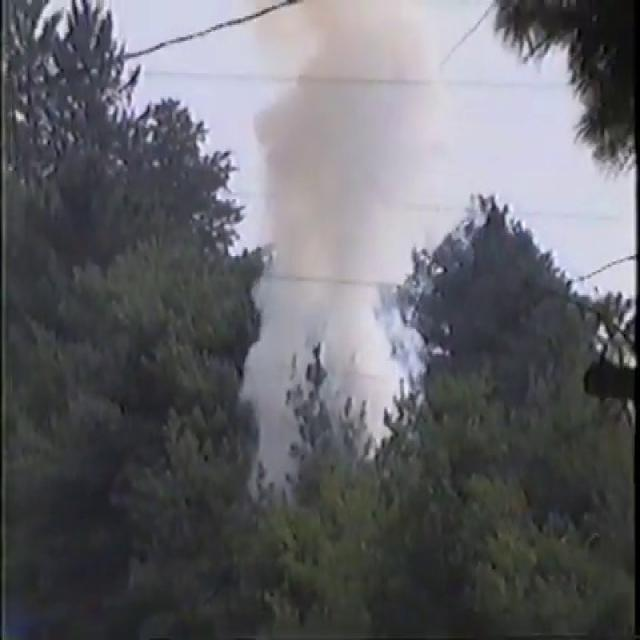Smoke: (230, 0, 434, 487)
